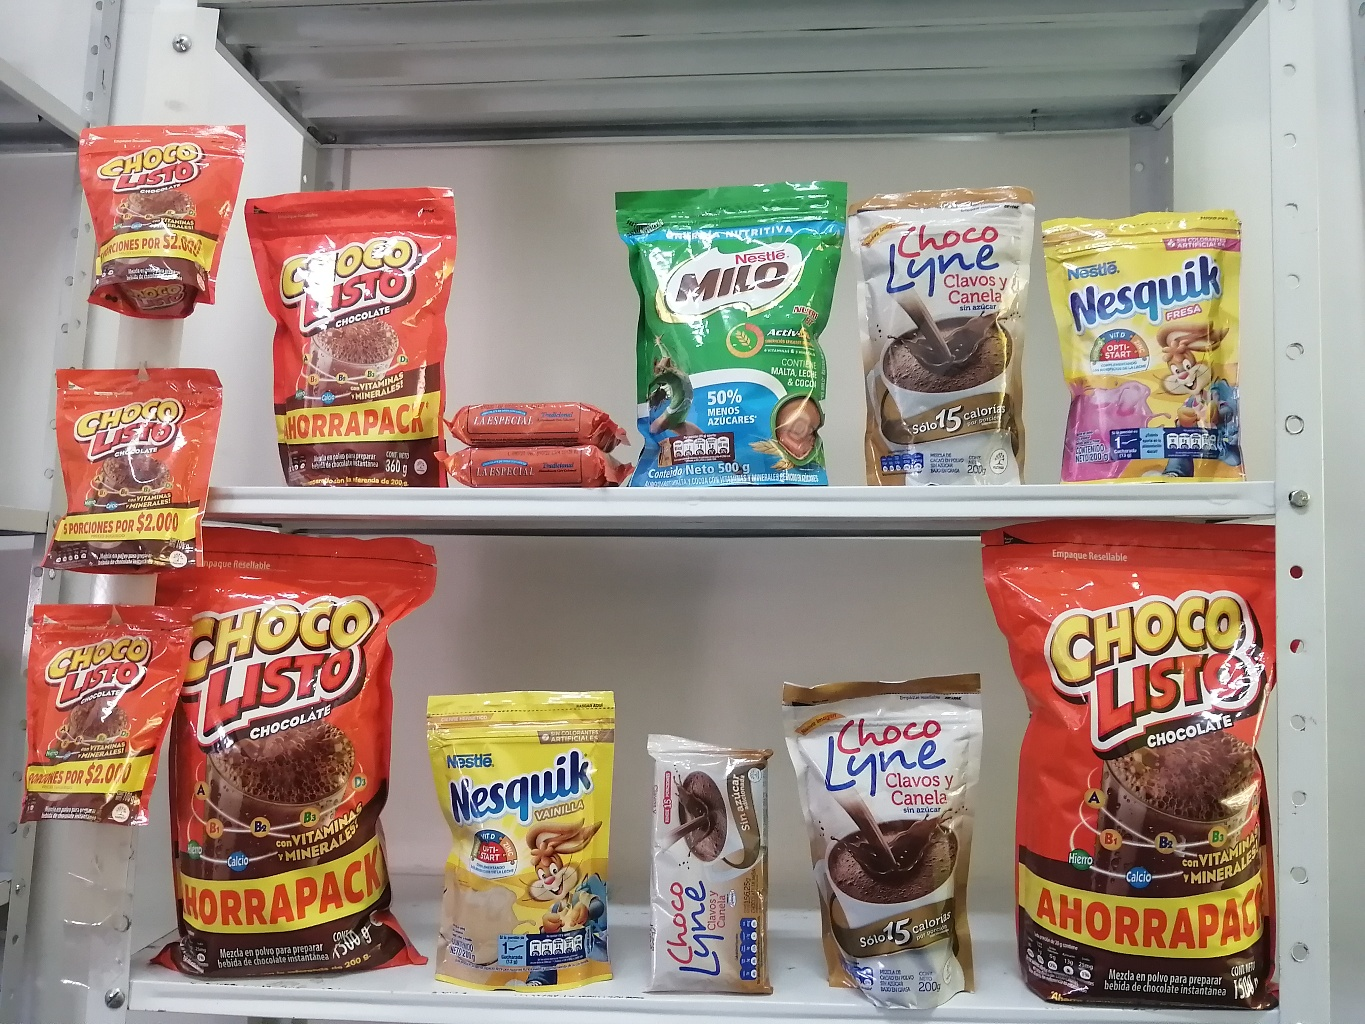COL0170103DYP1,500: (972, 517, 1316, 1019)
COL0170103DYP36000: (234, 173, 477, 499)
COL0170205DYP50000: (608, 165, 870, 488)
COL0170305DYP20000: (1028, 211, 1286, 487)
COL0170306DYP20000: (401, 679, 646, 1010)
